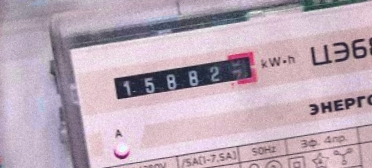1: (121, 78, 133, 97)
2: (208, 63, 221, 82)
5: (142, 75, 156, 93)
7: (231, 66, 243, 81)
8: (165, 71, 178, 89), (187, 68, 199, 85)
screen: (105, 47, 264, 105)
